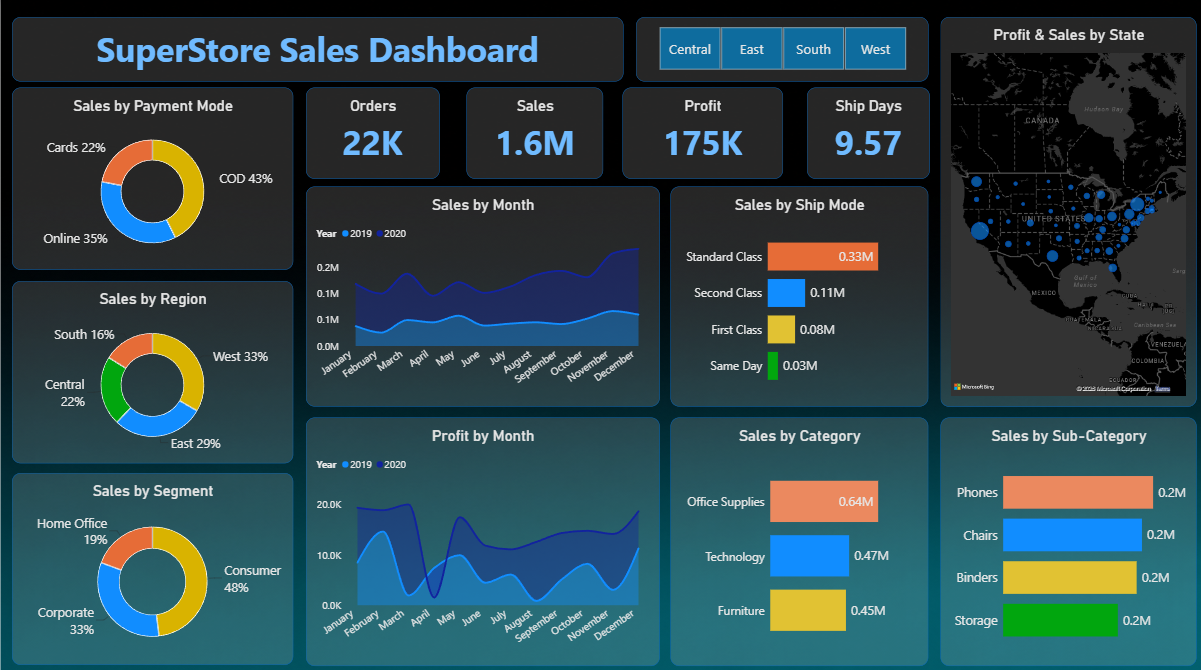

The dashboard page shown, as its layout file describes it:
{"tool":"powerbi","page":{"name":"Dashboard","canvas":[1920,1080],"ordinal":0},"visuals":[{"type":"clusteredBarChart","title":"Sales by Category","fields":{"Category":["SuperStore_Sales_Dataset.Category"],"Y":["Sum(SuperStore_Sales_Dataset.Sales)"]},"box":[1067.5,665,410,395],"z":0},{"type":"clusteredBarChart","title":"Sales by Sub-Category","fields":{"Category":["SuperStore_Sales_Dataset.Sub-Category"],"Y":["Sum(SuperStore_Sales_Dataset.Sales)"]},"box":[1495,665,407.5,395],"z":1000},{"type":"clusteredBarChart","title":"Sales by Ship Mode","fields":{"Category":["SuperStore_Sales_Dataset.Ship Mode"],"Y":["Sum(SuperStore_Sales_Dataset.Sales)"]},"box":[1067.5,297.5,410,350],"z":2000},{"type":"stackedAreaChart","title":"Sales by Month","fields":{"Category":["SuperStore_Sales_Dataset.Order Date.Variation.Date Hierarchy.Month","SuperStore_Sales_Dataset.Order Date.Variation.Date Hierarchy.Day"],"Series":["SuperStore_Sales_Dataset.Order Date.Variation.Date Hierarchy.Year"],"Y":["Sum(SuperStore_Sales_Dataset.Sales)"]},"box":[487.5,297.5,562.5,350],"z":3000},{"type":"stackedAreaChart","title":"Profit by Month","fields":{"Category":["SuperStore_Sales_Dataset.Order Date.Variation.Date Hierarchy.Month","SuperStore_Sales_Dataset.Order Date.Variation.Date Hierarchy.Day"],"Series":["SuperStore_Sales_Dataset.Order Date.Variation.Date Hierarchy.Year"],"Y":["Sum(SuperStore_Sales_Dataset.Profit)"]},"box":[487.5,665,562.5,395],"z":4000},{"type":"map","title":"Profit & Sales by State","fields":{"Category":["SuperStore_Sales_Dataset.State"],"Size":["Sum(SuperStore_Sales_Dataset.Sales)"]},"box":[1495,27.5,407.5,620],"z":5000},{"type":"donutChart","title":"Sales by Segment","fields":{"Category":["SuperStore_Sales_Dataset.Segment"],"Y":["Sum(SuperStore_Sales_Dataset.Sales)"]},"box":[20,755,447.5,305],"z":6000},{"type":"donutChart","title":"Sales by Payment Mode","fields":{"Category":["SuperStore_Sales_Dataset.Payment Mode"],"Y":["Sum(SuperStore_Sales_Dataset.Sales)"]},"box":[20,140,447.5,290],"z":7000},{"type":"slicer","fields":{"Values":["SuperStore_Sales_Dataset.Region"]},"box":[1012.5,27.5,465,102.5],"z":8000},{"type":"textbox","box":[20,27.5,972.5,102.5],"z":9000},{"type":"cardVisual","title":"Sales","fields":{"Data":["Sum(SuperStore_Sales_Dataset.Sales)"]},"box":[742.5,140,217.5,145],"z":10000},{"type":"cardVisual","title":"Orders","fields":{"Data":["Sum(SuperStore_Sales_Dataset.Quantity)"]},"box":[487.5,140,212.5,145],"z":11000},{"type":"cardVisual","title":"Profit","fields":{"Data":["Sum(SuperStore_Sales_Dataset.Profit)"]},"box":[990,140,255,145],"z":12000},{"type":"cardVisual","title":"Ship Days","fields":{"Data":["Avg(SuperStore_Sales_Dataset.AvgDelivery)"]},"box":[1282.5,140,195,145],"z":13000},{"type":"donutChart","title":"Sales by Region","fields":{"Category":["SuperStore_Sales_Dataset.Region"],"Y":["Sum(SuperStore_Sales_Dataset.Sales)"]},"box":[20,447.5,447.5,290],"z":14000}]}

Visuals, with their boxes in screenshot pixels (x1, y1, x2, y2), scaled from the page's 1920x1080 canvas onto the 1201x670 screenshot:
"Sales by Category" clusteredBarChart: 668,413,924,658
"Sales by Sub-Category" clusteredBarChart: 935,413,1190,658
"Sales by Ship Mode" clusteredBarChart: 668,185,924,402
"Sales by Month" stackedAreaChart: 305,185,657,402
"Profit by Month" stackedAreaChart: 305,413,657,658
"Profit & Sales by State" map: 935,17,1190,402
"Sales by Segment" donutChart: 13,468,292,658
"Sales by Payment Mode" donutChart: 13,87,292,267
slicer - SuperStore_Sales_Dataset.Region: 633,17,924,81
textbox: 13,17,621,81
"Sales" cardVisual: 464,87,600,177
"Orders" cardVisual: 305,87,438,177
"Profit" cardVisual: 619,87,779,177
"Ship Days" cardVisual: 802,87,924,177
"Sales by Region" donutChart: 13,278,292,458
